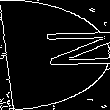N_W: (5, 34, 105, 76)
